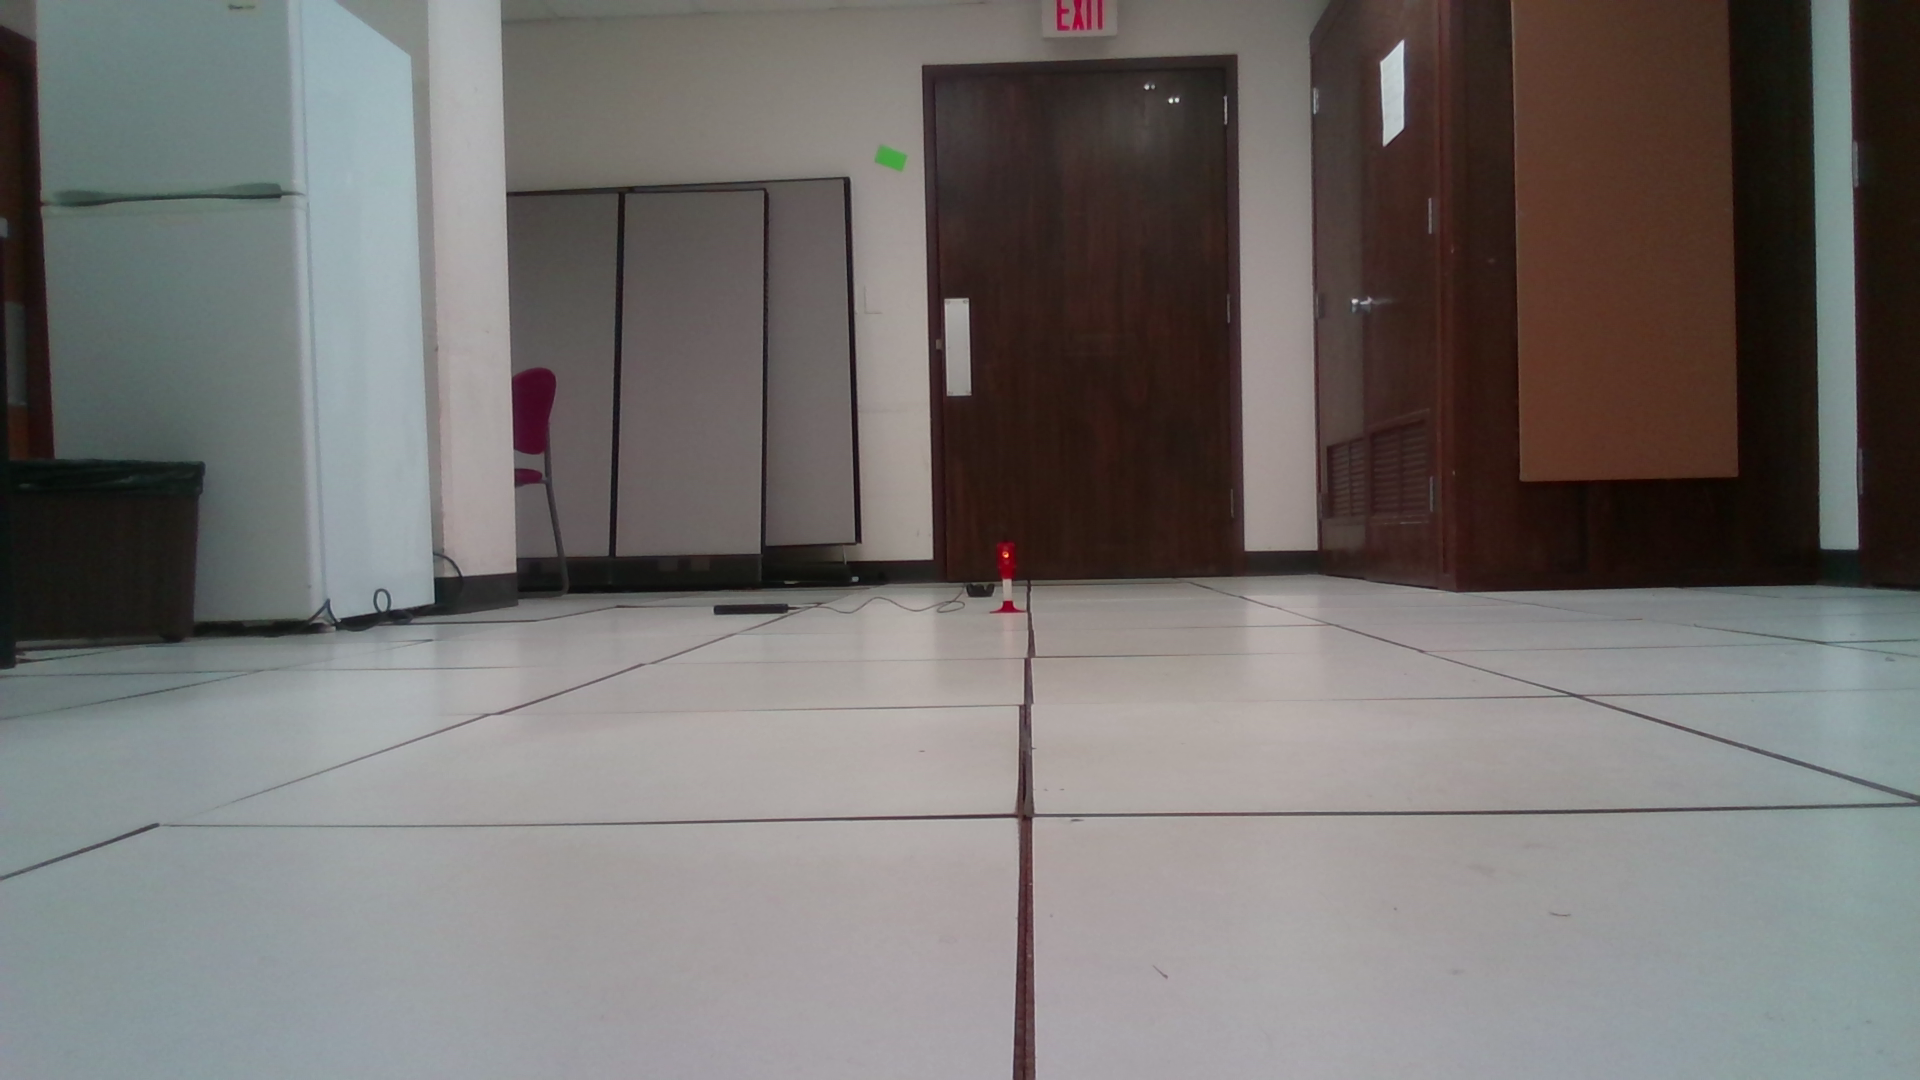stoplight: (996, 543, 1018, 578)
